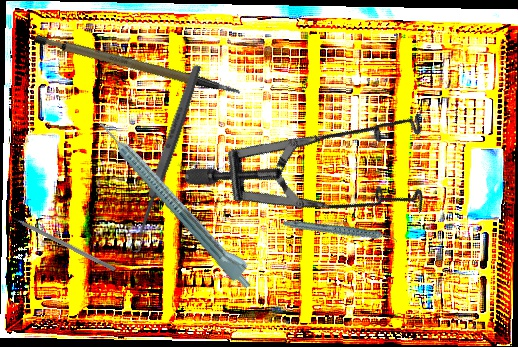Handpiece: (94, 111, 262, 293), (282, 197, 399, 267)
Hook Surgical: (4, 210, 117, 272)
Scalpel Handle: (32, 7, 242, 128)
Speculum: (179, 27, 463, 290)
Surgical Spoon: (127, 63, 204, 254)
